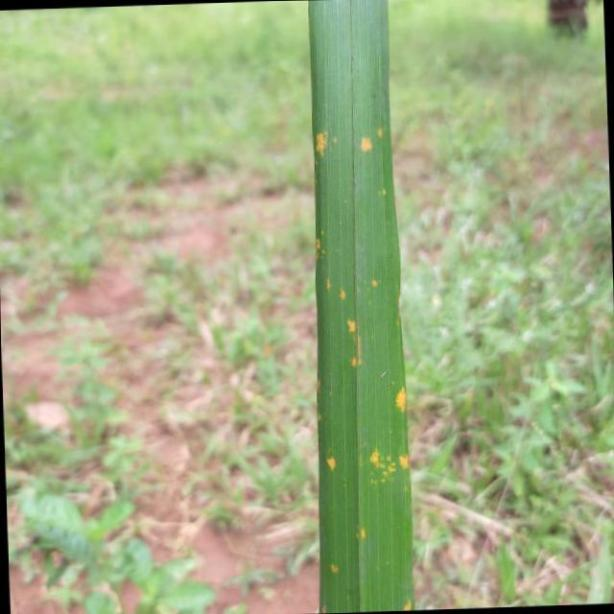Kalium: (310, 0, 418, 614)
